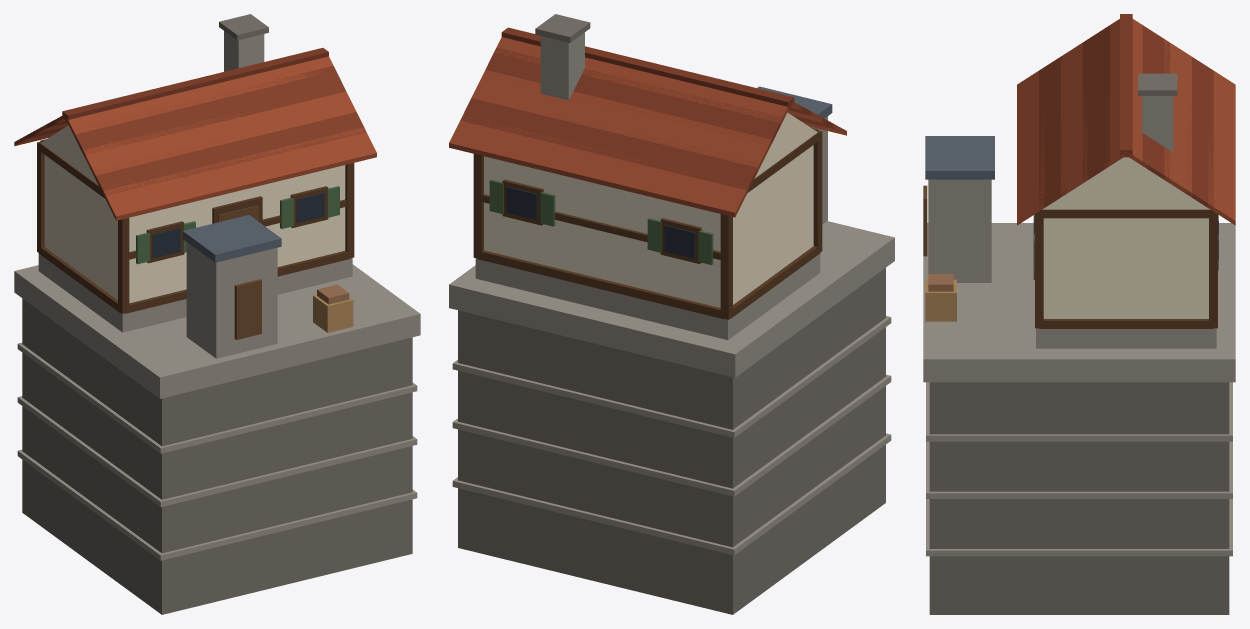
Rendered from smokehouse.glb.
The picture shows the model from 3 angles, left to right: view 1: azimuth 30°, elevation 25°; view 2: azimuth 150°, elevation 25°; view 3: azimuth 270°, elevation 25°; orthographic projection. The views are drawn at different scales.
Visible parts, largest first — view 1: smokehouse; view 2: smokehouse; view 3: smokehouse.
Part boxes in pixels (x1,y1,x2,y2): smokehouse: [14, 14, 420, 614]; smokehouse: [449, 14, 894, 614]; smokehouse: [923, 14, 1235, 614].
Size of the model in its own units: 5.1 by 8.72 by 4.93.
